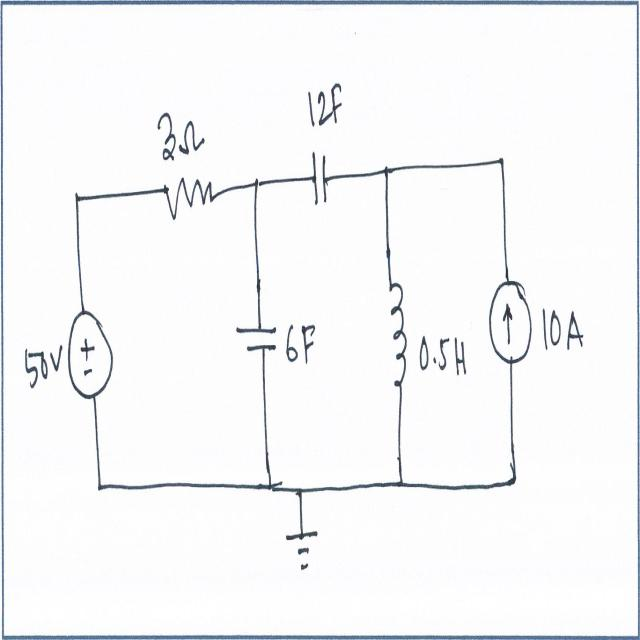capacitor: (233, 317, 282, 356), (308, 143, 332, 217)
current_source: (484, 274, 533, 369)
ground: (284, 528, 324, 589)
inductor: (387, 279, 415, 396)
resistor: (162, 170, 218, 226)
voltage_source: (66, 301, 116, 402)
